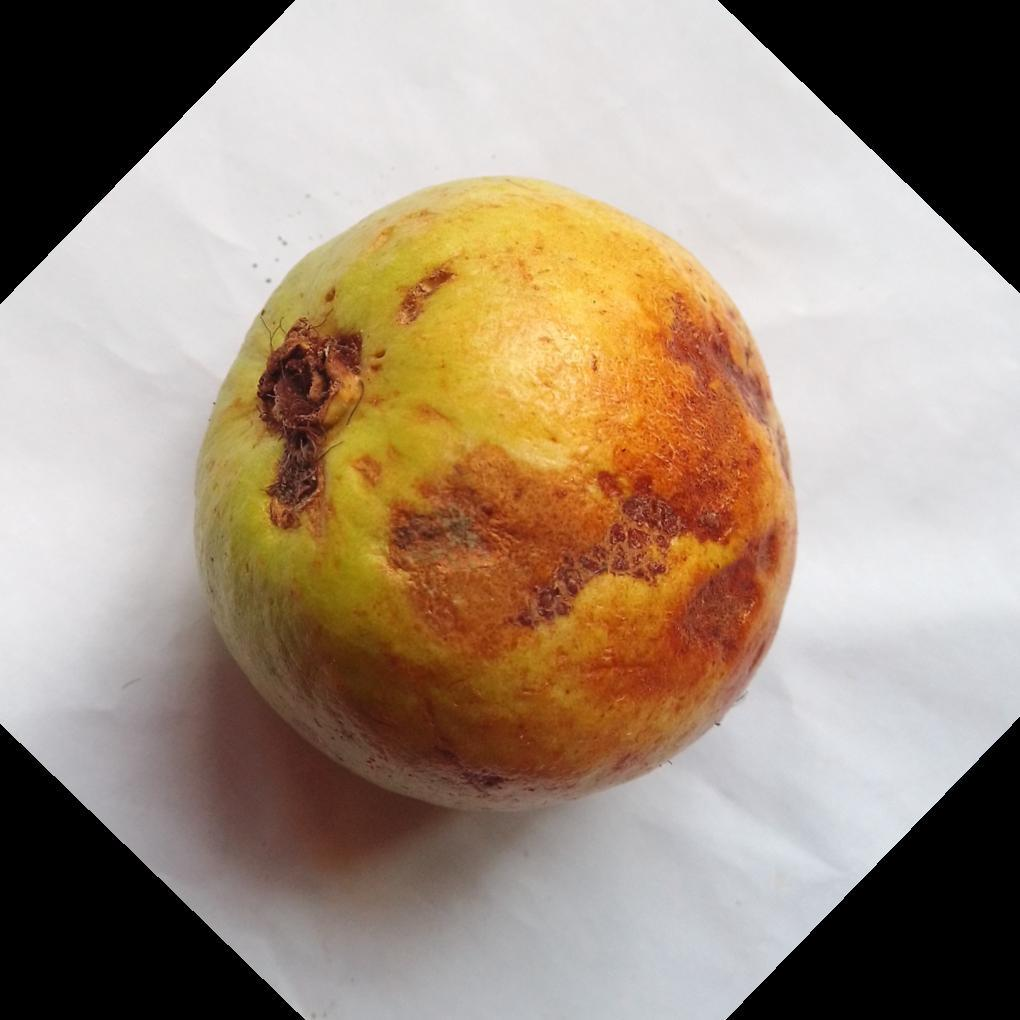FreshOrange: (190, 175, 800, 818)
